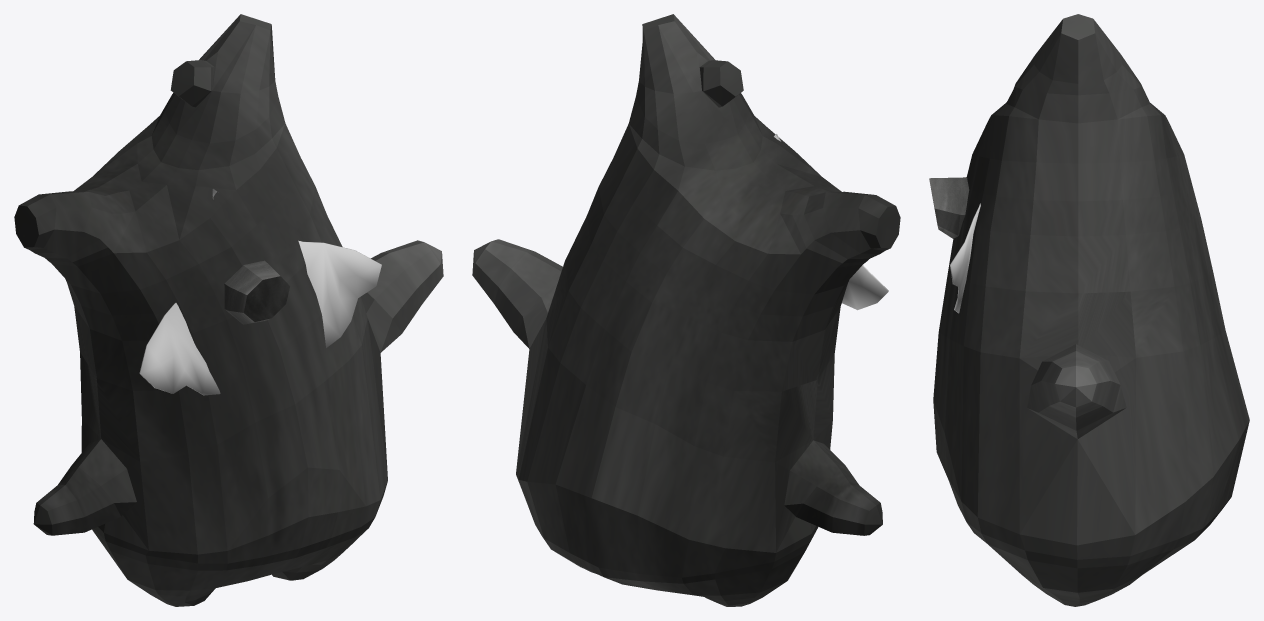
The model's file is frame_0013.obj.
3 views of the same model, side by side, from view 1: azimuth 30°, elevation 25°; view 2: azimuth 150°, elevation 25°; view 3: azimuth 270°, elevation 25° (orthographic).
Visible parts, largest first — view 1: korok, leaf, nose; view 2: korok, leaf; view 3: korok, nose, leaf.
Boxes of the visible parts, x1,y1,x2,y2 form: korok: (14, 14, 443, 606); leaf: (139, 189, 381, 395); nose: (224, 260, 289, 324); korok: (472, 14, 900, 606); leaf: (774, 134, 888, 310); korok: (933, 14, 1249, 606); nose: (929, 177, 969, 238); leaf: (950, 203, 980, 313).
Bounding box in the file's own units: 1.76 × 2.3 × 1.18.
